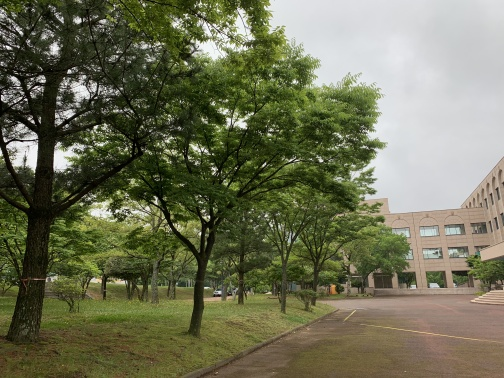Natural Science2: (456, 149, 504, 310)
